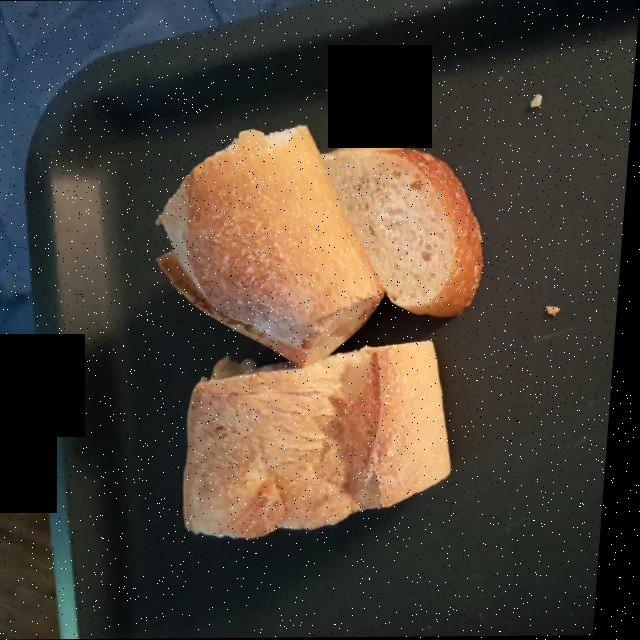bread: (155, 126, 485, 540)
